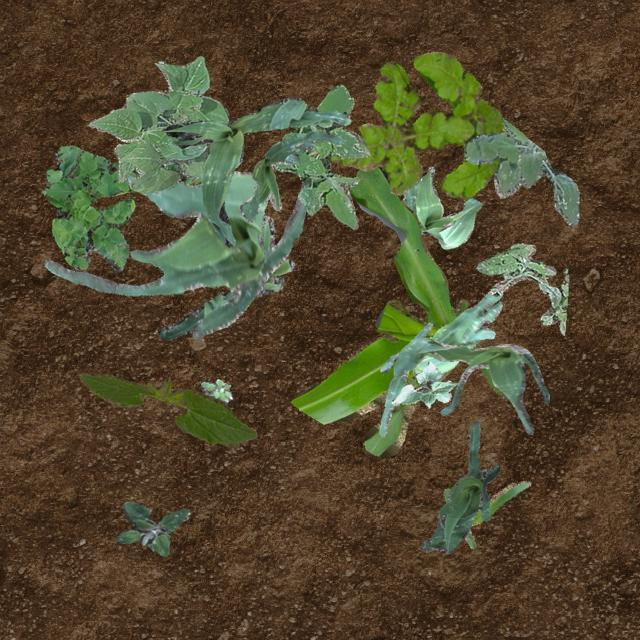crop: (289, 164, 506, 456), (44, 170, 308, 338), (163, 96, 350, 246), (87, 54, 241, 192), (378, 290, 502, 436), (158, 214, 294, 340), (392, 336, 548, 434), (77, 372, 255, 448), (421, 420, 498, 552), (238, 130, 344, 220), (400, 165, 480, 248), (442, 480, 530, 548), (390, 359, 456, 406)
weed: (328, 50, 506, 198), (41, 144, 200, 270), (274, 84, 368, 228), (464, 118, 578, 224), (476, 243, 568, 334), (116, 500, 188, 554), (200, 378, 232, 402)
